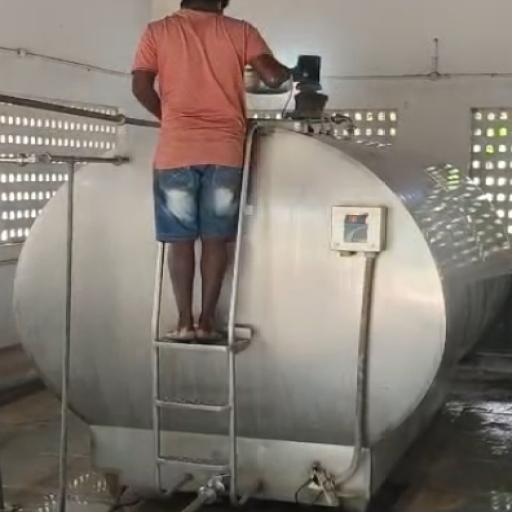silo: (11, 117, 511, 507)
vessel: (245, 69, 296, 94)
